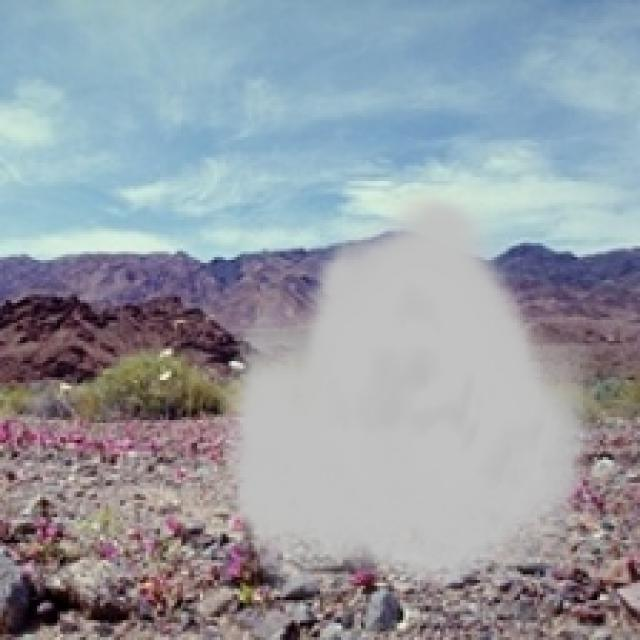smoke: (217, 183, 606, 597)
